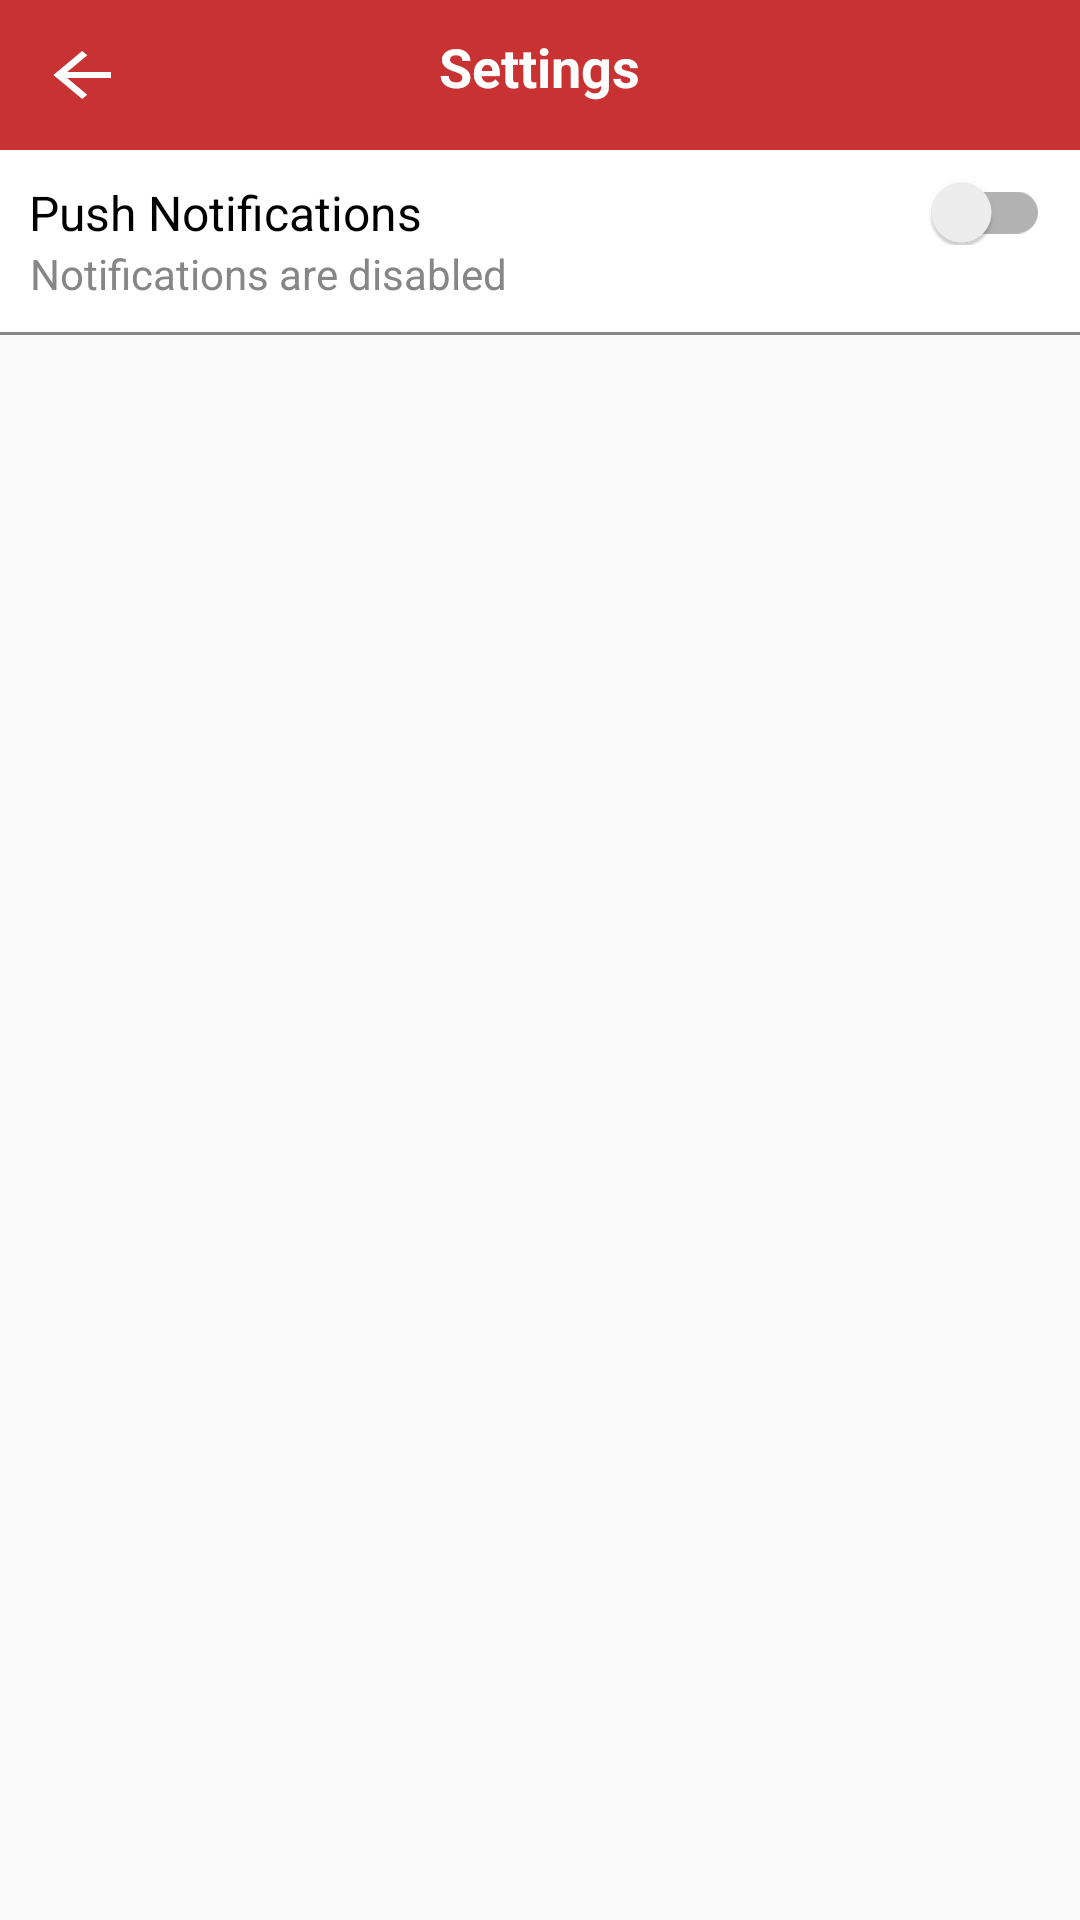

Screen size 1080x1920. Icon name, then its center in pixels as [x,y]:
arrow: [82,75]
